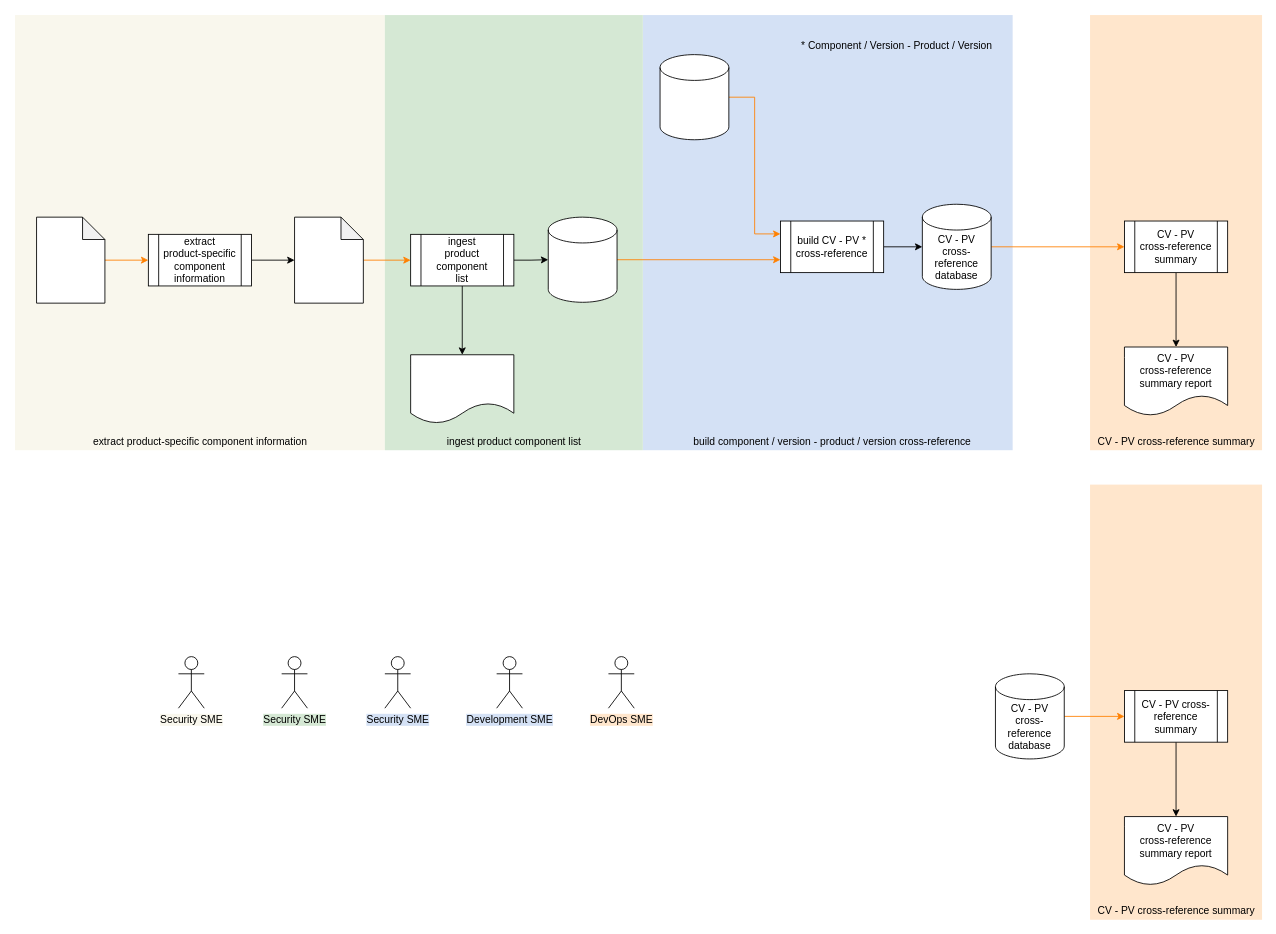
Some shapes in this 1276 by 934 pixel diagram are drawn without their labels. Here are the shapes that lost their labels. From the top down, the box of each, then its label:
(659, 54, 729, 140): development tools and components database
(36, 216, 105, 303): product build file
(294, 216, 363, 303): product component list
(547, 216, 617, 302): product component database
(410, 354, 514, 424): product component list ingest report
